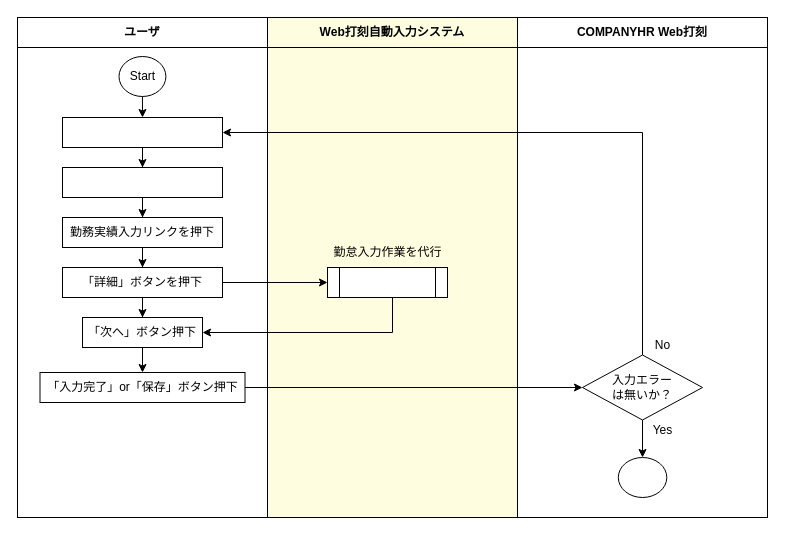
Image size: 785x535. Some labels were removed from this diagram. The centre of each missing label's shape, as x and y in pixels:
"COMPANY HRへログイン" goes at [142,182].
"End" goes at [642,477].
"入力値の設定" goes at [142,132].
"勤怠入力作業" goes at [387,282].
